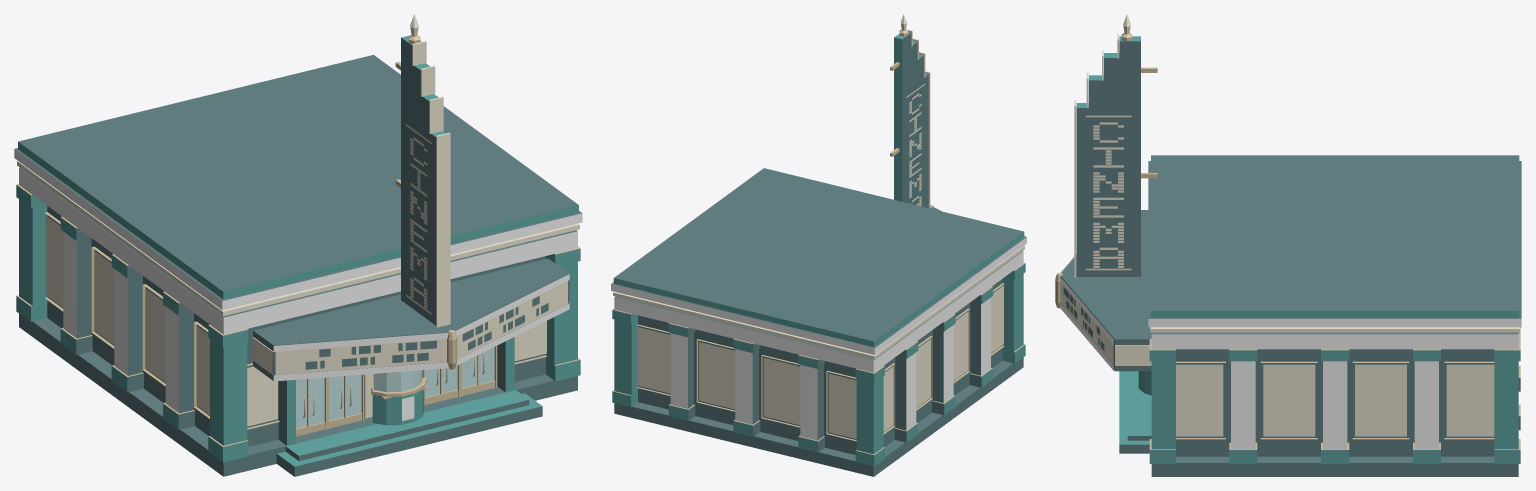
Rendered from KC32__AD_Ext_Bldg_Base_Cinema.glb.
The picture shows the model from 3 angles, left to right: view 1: azimuth 30°, elevation 25°; view 2: azimuth 150°, elevation 25°; view 3: azimuth 270°, elevation 25°; orthographic projection. The views are drawn at different scales.
Visible parts, largest first — view 1: KC32_CORPS__AD_Ext_Bldg_Base_Cinema, KC32_LUMIERE__AD_Ext_Bldg_Base_Cinema, KC32_ACCENT__AD_Ext_Bldg_Base_Cinema, KC32_BRONZE__AD_Ext_Bldg_Base_Cinema, KC32_VITRAGE__AD_Ext_Bldg_Base_Cinema; view 2: KC32_CORPS__AD_Ext_Bldg_Base_Cinema, KC32_LUMIERE__AD_Ext_Bldg_Base_Cinema, KC32_ACCENT__AD_Ext_Bldg_Base_Cinema, KC32_BRONZE__AD_Ext_Bldg_Base_Cinema; view 3: KC32_CORPS__AD_Ext_Bldg_Base_Cinema, KC32_LUMIERE__AD_Ext_Bldg_Base_Cinema, KC32_ACCENT__AD_Ext_Bldg_Base_Cinema, KC32_BRONZE__AD_Ext_Bldg_Base_Cinema.
Boxes of the visible parts, bbox=[...] form: KC32_CORPS__AD_Ext_Bldg_Base_Cinema: bbox=[14, 35, 582, 476]; KC32_LUMIERE__AD_Ext_Bldg_Base_Cinema: bbox=[17, 14, 579, 426]; KC32_ACCENT__AD_Ext_Bldg_Base_Cinema: bbox=[14, 149, 582, 421]; KC32_BRONZE__AD_Ext_Bldg_Base_Cinema: bbox=[16, 35, 580, 446]; KC32_VITRAGE__AD_Ext_Bldg_Base_Cinema: bbox=[296, 347, 494, 428]; KC32_CORPS__AD_Ext_Bldg_Base_Cinema: bbox=[611, 32, 1026, 476]; KC32_LUMIERE__AD_Ext_Bldg_Base_Cinema: bbox=[613, 14, 1024, 438]; KC32_ACCENT__AD_Ext_Bldg_Base_Cinema: bbox=[611, 207, 1026, 440]; KC32_BRONZE__AD_Ext_Bldg_Base_Cinema: bbox=[612, 29, 1025, 454]; KC32_CORPS__AD_Ext_Bldg_Base_Cinema: bbox=[1061, 36, 1521, 476]; KC32_LUMIERE__AD_Ext_Bldg_Base_Cinema: bbox=[1060, 14, 1519, 436]; KC32_ACCENT__AD_Ext_Bldg_Base_Cinema: bbox=[1060, 254, 1521, 449]; KC32_BRONZE__AD_Ext_Bldg_Base_Cinema: bbox=[1055, 33, 1520, 449].
Bounding box in the file's own units: 12.2 × 13.9 × 15.25.
